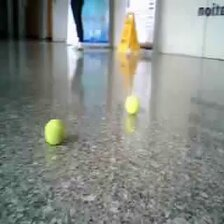tennis: (44, 120, 65, 145), (125, 97, 139, 114)
